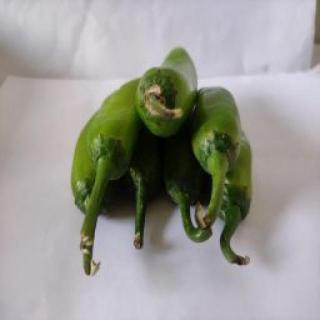Cabai Hijau: (189, 85, 243, 229), (134, 45, 199, 141)
